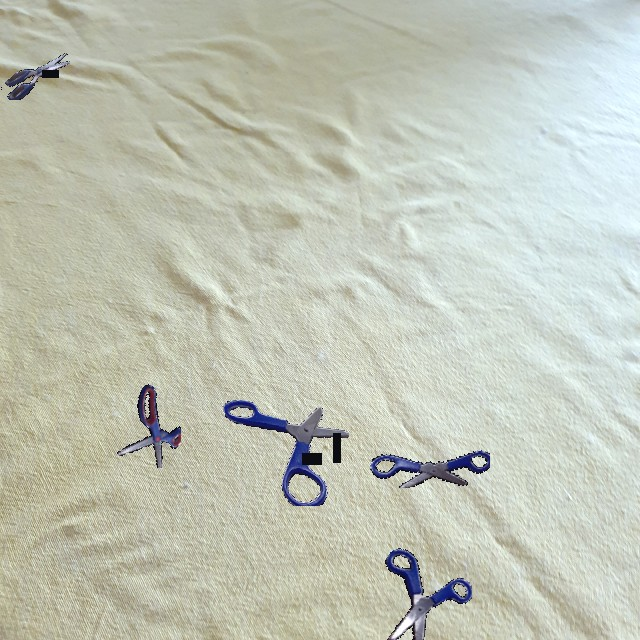scissors: (222, 400, 349, 506), (385, 548, 472, 640), (117, 384, 181, 468), (370, 450, 490, 488), (1, 53, 70, 100)
